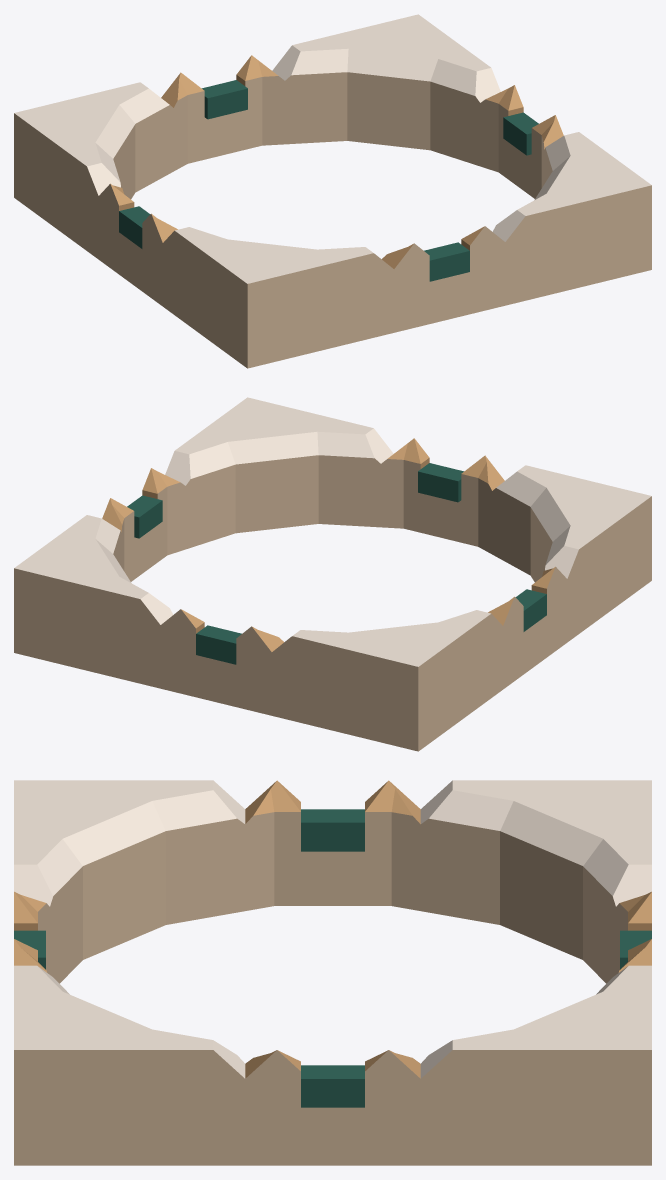
Rendered from Puzzle_Floor_Conduit_Rotating_Housing_Cross.fbx.
3 views of the same model, one above another, from view 1: azimuth 30°, elevation 25°; view 2: azimuth 150°, elevation 25°; view 3: azimuth 270°, elevation 25° (orthographic). The views are drawn at different scales.
Visible parts, largest first — view 1: Sandstone_Trim.Sandstone_Trim.Sandstone_Trim.Sandstone_Trim., Sandstone_Floor.Sandstone_Floor.Sandstone_Floor.Sandstone_Fl, Sandstone_5.Sandstone_5.Sandstone_5.Sandstone_5.Sandstone_5., object2, object1, object4, object3; view 2: Sandstone_Trim.Sandstone_Trim.Sandstone_Trim.Sandstone_Trim., Sandstone_Floor.Sandstone_Floor.Sandstone_Floor.Sandstone_Fl, Sandstone_5.Sandstone_5.Sandstone_5.Sandstone_5.Sandstone_5., object1, object2, object4, object3; view 3: Sandstone_Trim.Sandstone_Trim.Sandstone_Trim.Sandstone_Trim., Sandstone_Floor.Sandstone_Floor.Sandstone_Floor.Sandstone_Fl, Sandstone_5.Sandstone_5.Sandstone_5.Sandstone_5.Sandstone_5., object3, object4, object1, object2.
Part boxes in pixels (box(x1,y1,x2,y2)): Sandstone_Trim.Sandstone_Trim.Sandstone_Trim.Sandstone_Trim.: box(14, 72, 651, 368); Sandstone_Floor.Sandstone_Floor.Sandstone_Floor.Sandstone_Fl: box(14, 14, 651, 283); Sandstone_5.Sandstone_5.Sandstone_5.Sandstone_5.Sandstone_5.: box(110, 55, 563, 268); object2: box(202, 80, 247, 119); object1: box(424, 242, 469, 281); object4: box(503, 112, 538, 155); object3: box(119, 206, 150, 248); Sandstone_Trim.Sandstone_Trim.Sandstone_Trim.Sandstone_Trim.: box(14, 455, 651, 751); Sandstone_Floor.Sandstone_Floor.Sandstone_Floor.Sandstone_Fl: box(14, 397, 651, 666); Sandstone_5.Sandstone_5.Sandstone_5.Sandstone_5.Sandstone_5.: box(102, 438, 555, 651); object1: box(418, 463, 463, 502); object2: box(196, 625, 241, 664); object4: box(127, 495, 162, 538); object3: box(515, 589, 546, 631); Sandstone_Trim.Sandstone_Trim.Sandstone_Trim.Sandstone_Trim.: box(14, 812, 651, 1165); Sandstone_Floor.Sandstone_Floor.Sandstone_Floor.Sandstone_Fl: box(14, 780, 651, 1078); Sandstone_5.Sandstone_5.Sandstone_5.Sandstone_5.Sandstone_5.: box(14, 780, 651, 1078); object3: box(301, 809, 364, 851); object4: box(301, 1065, 364, 1107); object1: box(14, 930, 45, 969); object2: box(620, 930, 651, 969).
Size of the model in its own units: 1 by 0.2 by 1.
